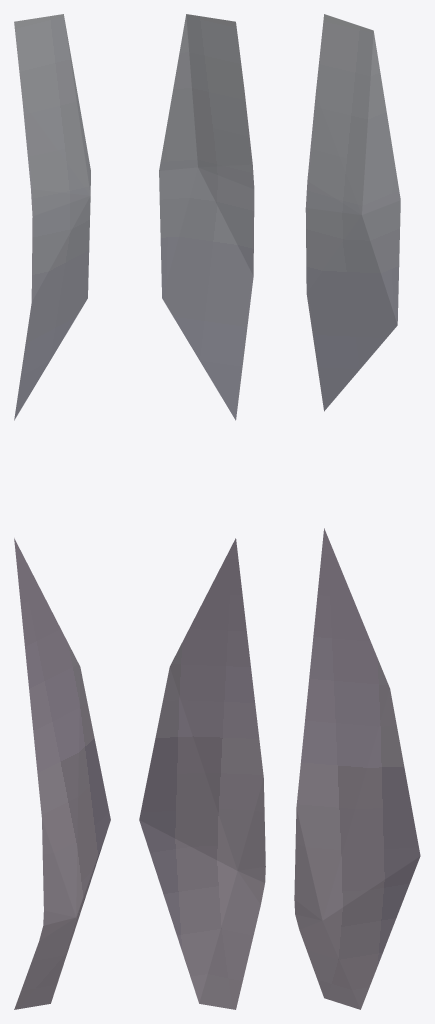
The model's file is Tile__002__007_L22_00016200.glb.
3 views of the same model, side by side, from view 1: azimuth 30°, elevation 25°; view 2: azimuth 150°, elevation 25°; view 3: azimuth 330°, elevation 25° (orthographic).
Parts seen in each view (by area): view 1: root; view 2: root; view 3: root.
Boxes of the visible parts, x1,y1,x2,y2 form: root: [14, 14, 110, 1009]; root: [139, 14, 265, 1009]; root: [294, 14, 420, 1009].
Bounding box in the file's own units: 0.1079 × 1.05 × 0.0614.
Materials: 1 (1 with a texture image).
